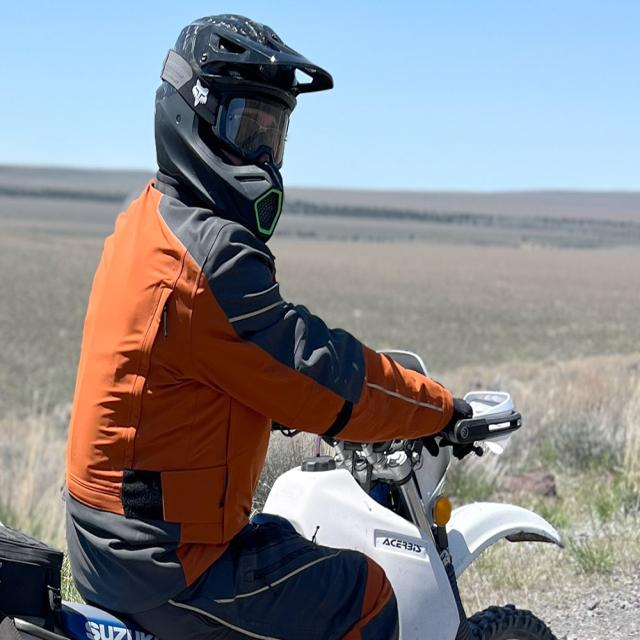Helmet: (154, 13, 334, 243)
